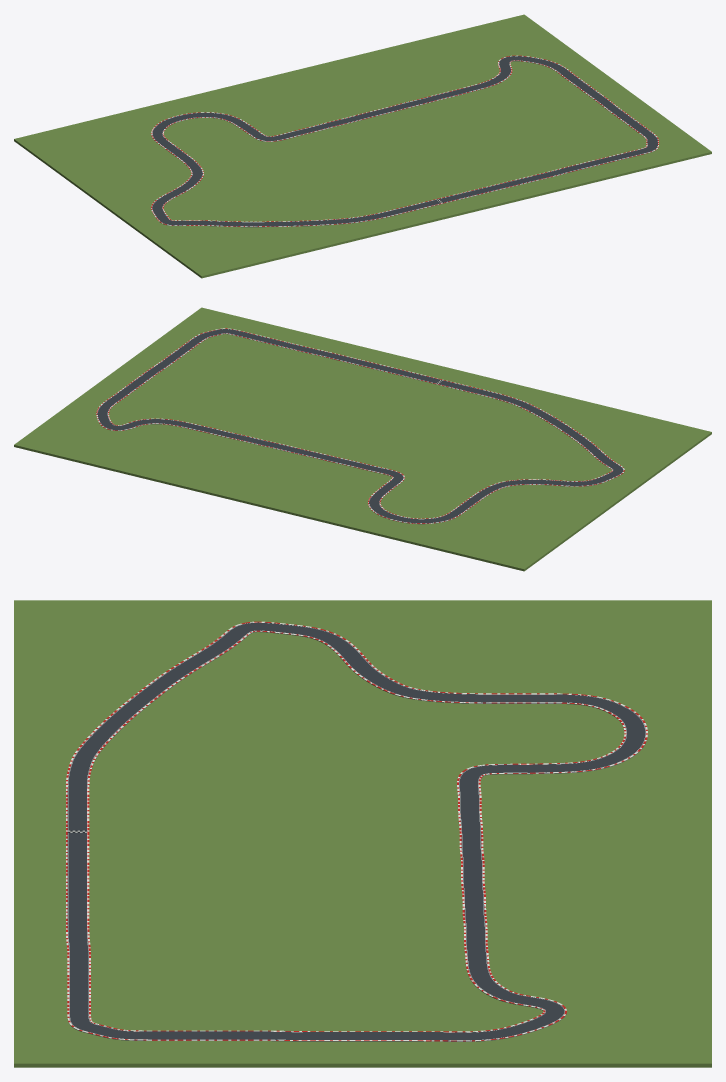
Rendered from primeira_pista.glb.
The picture shows the model from 3 angles, top to bottom: view 1: azimuth 30°, elevation 25°; view 2: azimuth 150°, elevation 25°; view 3: azimuth 270°, elevation 25°; orthographic projection. The views are drawn at different scales.
Visible parts, largest first — view 1: PI001_Base_Gramado, PI001_Asfalto, PI001_Zebra_Externa, PI001_Zebra_Interna; view 2: PI001_Base_Gramado, PI001_Asfalto, PI001_Zebra_Externa, PI001_Zebra_Interna; view 3: PI001_Base_Gramado, PI001_Asfalto, PI001_Zebra_Externa, PI001_Zebra_Interna, PI001_Linha_Externa, PI001_Linha_Interna.
Part boxes in pixels (x1,y1,x2,y2): PI001_Base_Gramado: [14, 14, 711, 278]; PI001_Asfalto: [152, 56, 657, 226]; PI001_Zebra_Externa: [151, 55, 658, 227]; PI001_Zebra_Interna: [162, 60, 647, 221]; PI001_Base_Gramado: [14, 307, 711, 571]; PI001_Asfalto: [97, 329, 623, 523]; PI001_Zebra_Externa: [96, 328, 624, 524]; PI001_Zebra_Interna: [108, 333, 612, 518]; PI001_Base_Gramado: [14, 600, 711, 1067]; PI001_Asfalto: [67, 622, 645, 1040]; PI001_Zebra_Externa: [66, 621, 647, 1041]; PI001_Zebra_Interna: [87, 630, 626, 1032]; PI001_Linha_Externa: [68, 622, 645, 1040]; PI001_Linha_Interna: [87, 630, 626, 1032].
Size of the model in its own units: 446 by 2.04 by 284.
